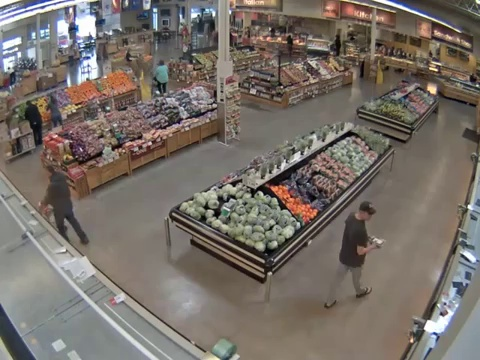face: (362, 207, 373, 222)
